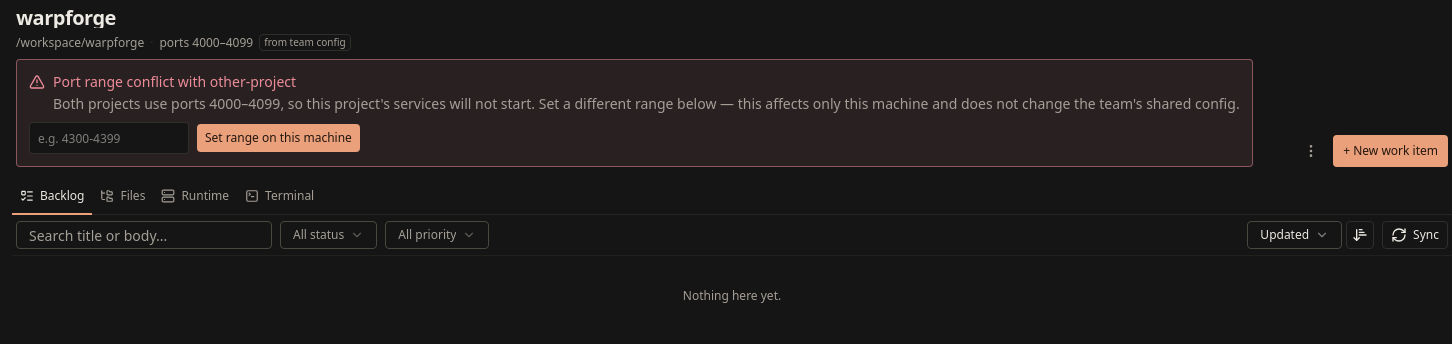
Test: Projects — port range conflict › surfaces the daemon's rejection of a valid-shaped range
This screenshot has width=1452, height=344.
Type "4100-4199" into the field named "New local port range for warpforge".
click(109, 138); type("4100-4199")  # box left=29, top=122, right=189, bottom=154
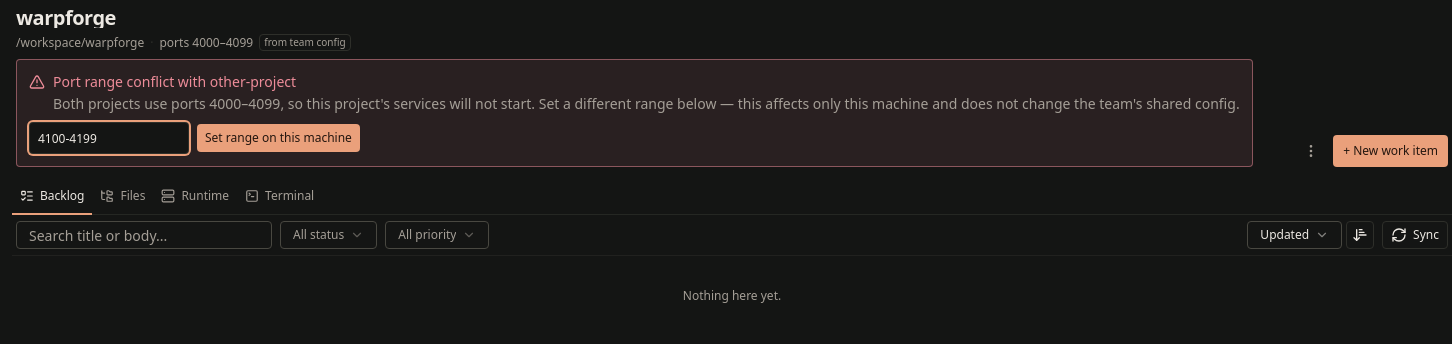
Click the button "Set range on this machine".
click(278, 138)  # box left=197, top=124, right=360, bottom=152
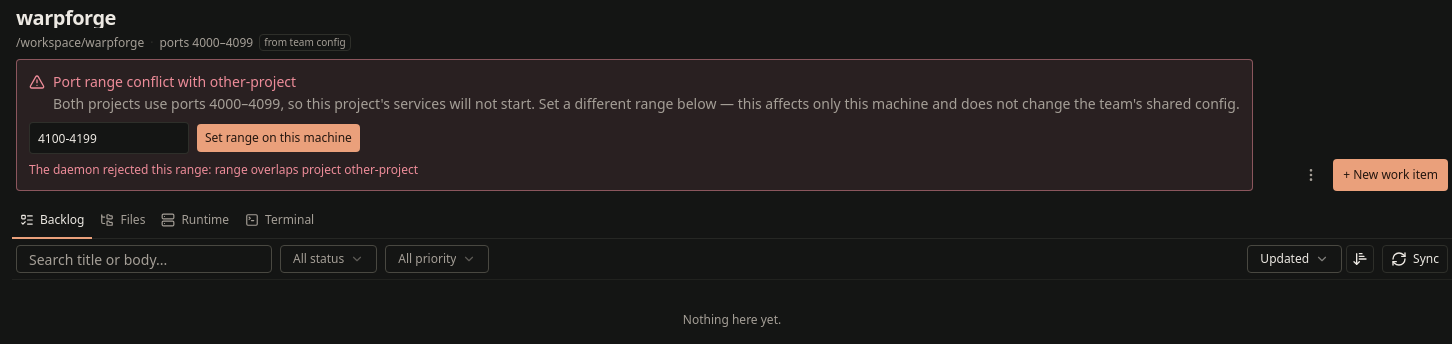
Check: the text "The daemon rejected this range: range overlaps project other-project" is shown, box left=29, top=161, right=418, bottom=178
